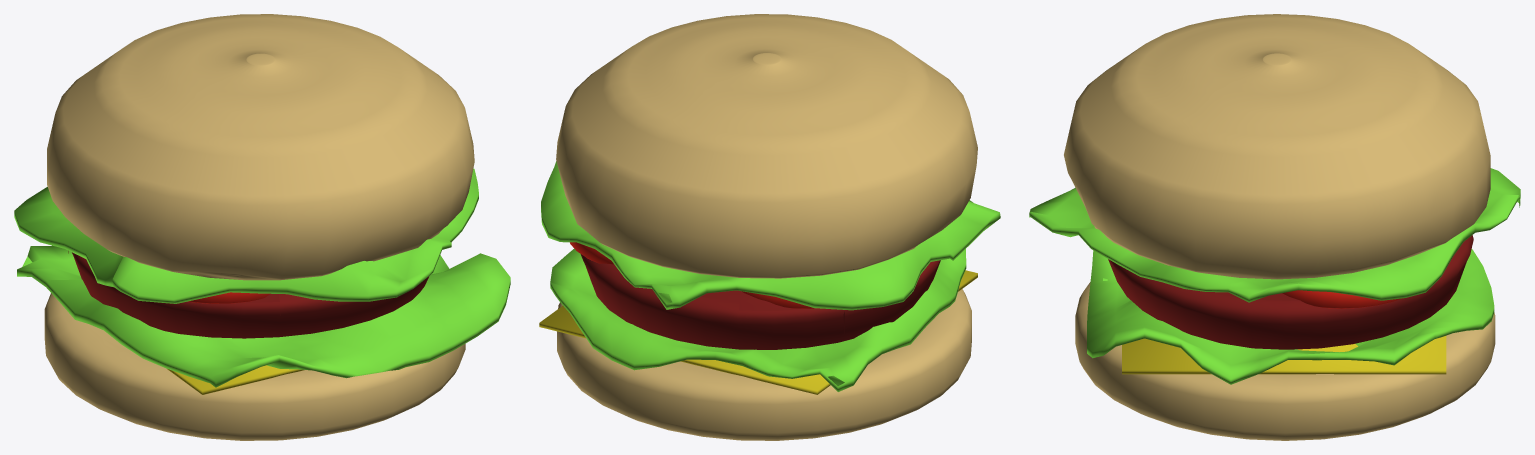
The model's file is LBSR_Hamburger.fbx.
The picture shows the model from 3 angles, left to right: view 1: azimuth 30°, elevation 25°; view 2: azimuth 150°, elevation 25°; view 3: azimuth 270°, elevation 25°; orthographic projection.
Parts seen in each view (by area): view 1: top bun, bottom bun, lettuce, lettuce.001, meat, cheese, tomato.002; view 2: top bun, bottom bun, lettuce, lettuce.001, meat, cheese; view 3: top bun, bottom bun, meat, lettuce, lettuce.001, cheese, tomato.
Part boxes in pixels (bbox=[...]): top bun: bbox=[47, 14, 474, 280]; bottom bun: bbox=[44, 293, 465, 440]; lettuce: bbox=[17, 245, 510, 387]; lettuce.001: bbox=[14, 168, 478, 303]; meat: bbox=[68, 251, 429, 338]; cheese: bbox=[167, 365, 304, 394]; tomato.002: bbox=[188, 292, 270, 303]; top bun: bbox=[556, 14, 977, 278]; bottom bun: bbox=[557, 289, 971, 440]; lettuce: bbox=[550, 248, 966, 391]; lettuce.001: bbox=[541, 161, 1000, 310]; meat: bbox=[580, 254, 940, 349]; cheese: bbox=[539, 270, 977, 394]; top bun: bbox=[1064, 14, 1490, 279]; bottom bun: bbox=[1075, 282, 1495, 440]; meat: bbox=[1108, 235, 1473, 349]; lettuce: bbox=[1087, 249, 1494, 384]; lettuce.001: bbox=[1029, 168, 1520, 302]; cheese: bbox=[1122, 336, 1446, 374]; tomato: bbox=[1282, 290, 1402, 308].
Bounding box in the file's own units: 0.4907 × 0.4049 × 0.5396.
